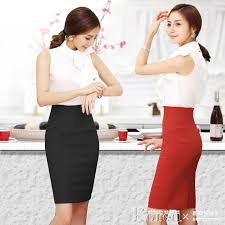C_skirt: (144, 101, 206, 213)
F_tailored skirt: (42, 101, 103, 211)
